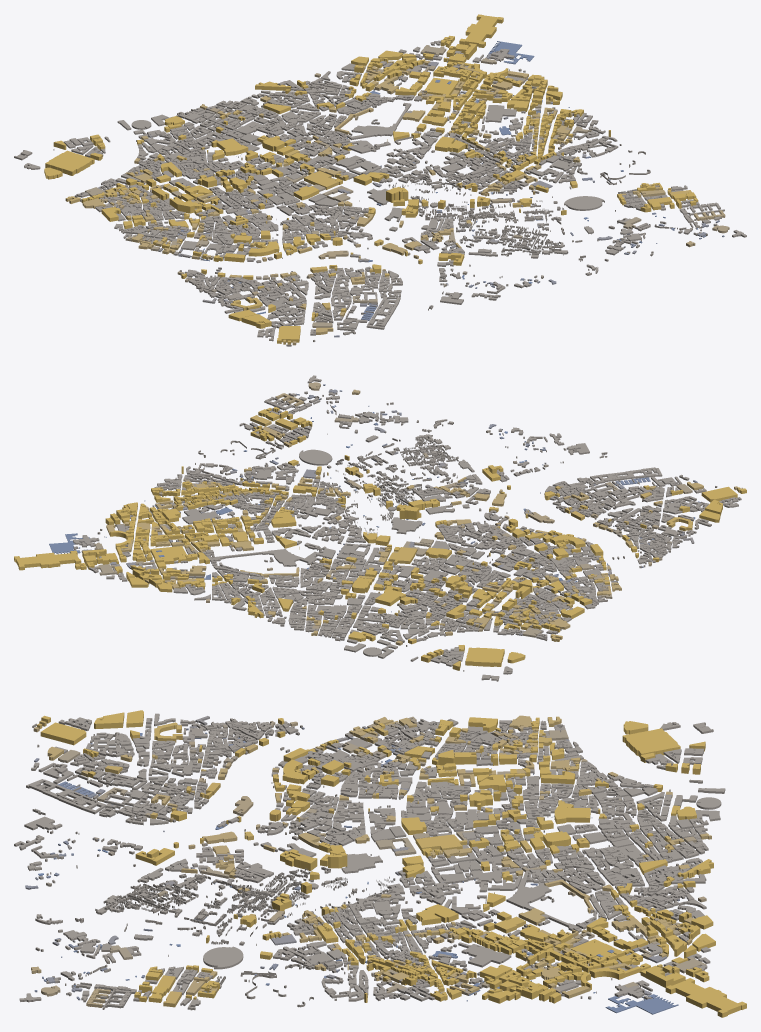
File: buildings.glb
The picture shows the model from 3 angles, top to bottom: view 1: azimuth 30°, elevation 25°; view 2: azimuth 150°, elevation 25°; view 3: azimuth 270°, elevation 25°; orthographic projection. The views are drawn at different scales.
Visible parts, largest first — view 1: buildings; view 2: buildings; view 3: buildings.
Part boxes in pixels (x1=…): buildings: x1=14, y1=14, x2=746, y2=346; buildings: x1=14, y1=375, x2=746, y2=681; buildings: x1=14, y1=710, x2=746, y2=1017.
Bounding box in the file's own units: 2656 × 93.69 × 2641.
